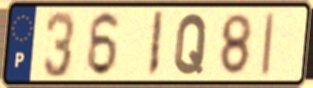3: (42, 8, 77, 80)
6: (85, 10, 122, 79)
8: (218, 12, 255, 76)
I: (145, 9, 166, 79), (259, 10, 277, 79)
Q: (172, 12, 210, 77)
